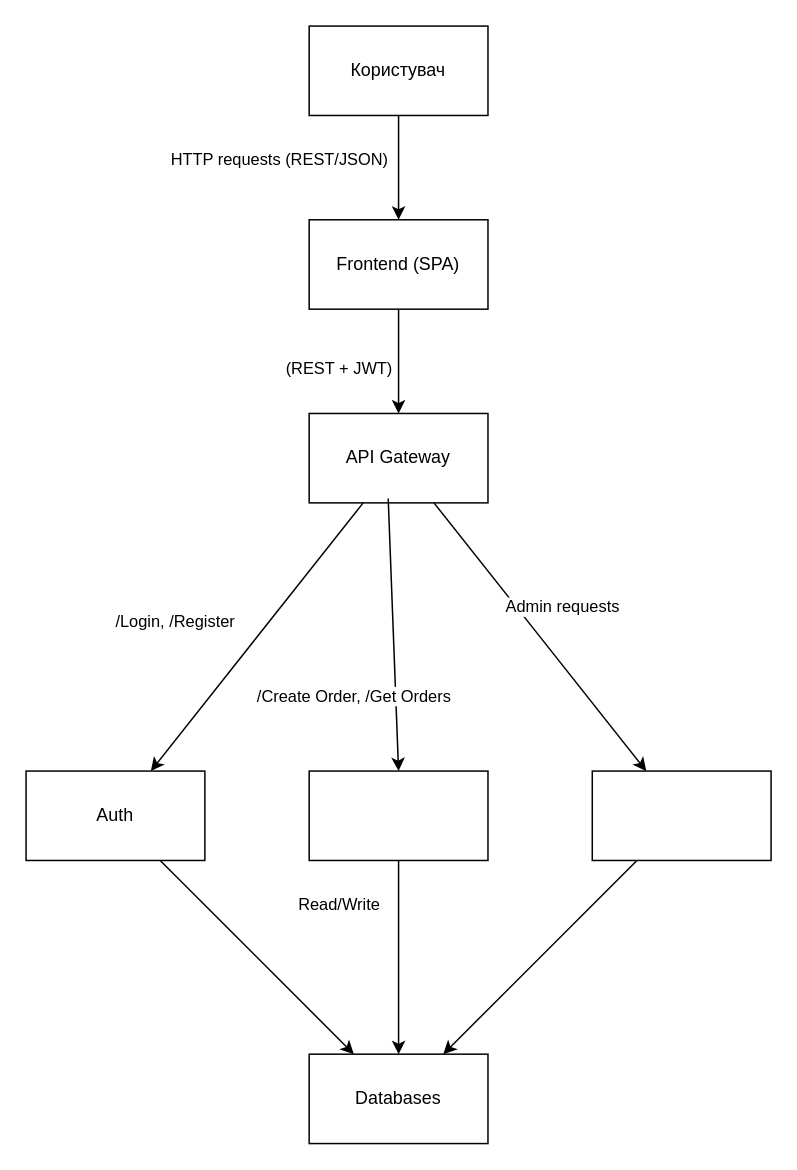
This 797x1170 diagram has some shape labels left out. The centre of each missing label's shape, as x and y in pixels:
Admin: (681,815)
Orders: (398,815)
